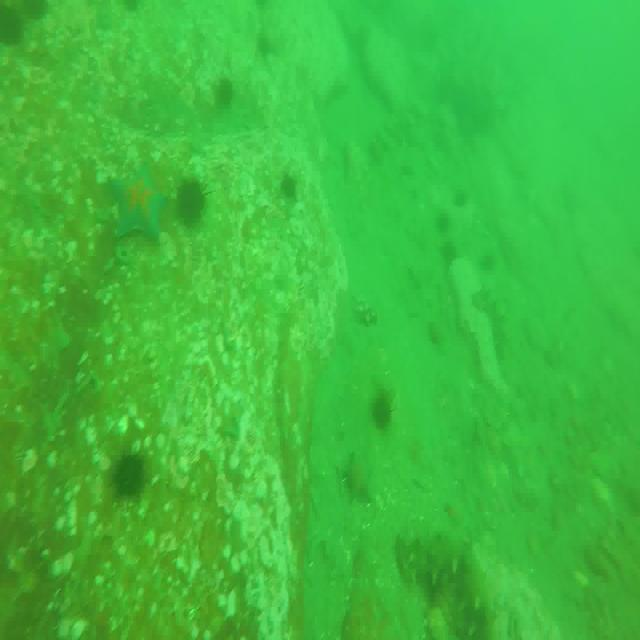echinus: (115, 449, 148, 501), (177, 176, 210, 225), (212, 68, 236, 116), (0, 0, 25, 46), (278, 165, 300, 208), (370, 392, 396, 428), (22, 0, 48, 27), (453, 178, 471, 211), (434, 207, 450, 239), (440, 240, 458, 268)
holothurian: (398, 525, 496, 640)
starfish: (109, 159, 171, 243), (343, 453, 377, 508)
